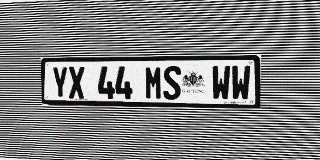4: (98, 66, 115, 99), (115, 66, 132, 99)
M: (145, 66, 162, 100)
S: (163, 66, 181, 100)
W: (231, 65, 251, 101), (211, 65, 231, 100)
X: (68, 66, 85, 99)
Y: (52, 67, 68, 99)
